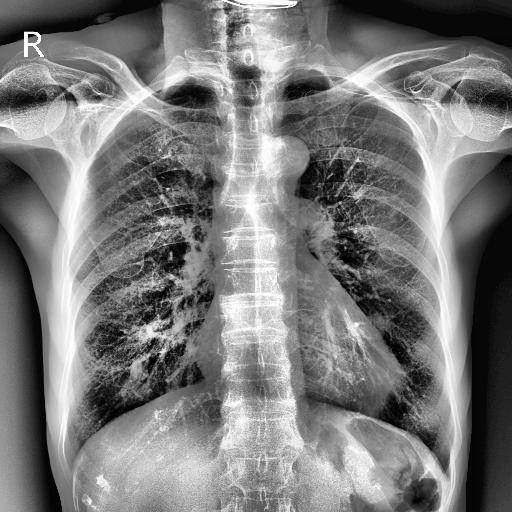0- Aortic enlargement: (262, 135, 310, 179)
11- Pleural thickening: (173, 73, 209, 85)
3- Cardiomegaly: (190, 325, 402, 418), (190, 316, 400, 406)
